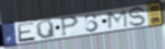6: (84, 14, 100, 33)
E: (16, 21, 37, 43)
M: (107, 8, 129, 30)
P: (59, 15, 80, 38)
Q: (35, 20, 57, 40)
S: (127, 6, 148, 28)
